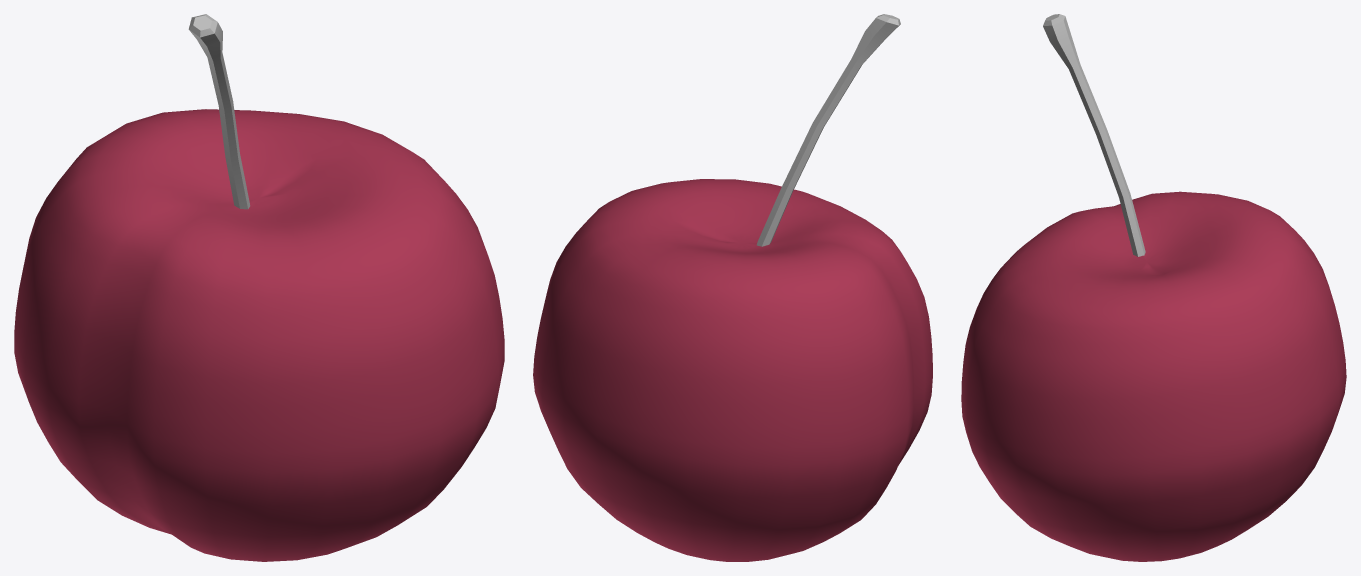
The model's file is Cherry.fbx.
The picture shows the model from 3 angles, left to right: view 1: azimuth 30°, elevation 25°; view 2: azimuth 150°, elevation 25°; view 3: azimuth 270°, elevation 25°; orthographic projection. The views are drawn at different scales.
Visible parts, largest first — view 1: node_id112, node_id112.001; view 2: node_id112, node_id112.001; view 3: node_id112, node_id112.001.
Boxes of the visible parts, bbox=[...] form: node_id112: bbox=[14, 109, 504, 561]; node_id112.001: bbox=[188, 14, 250, 209]; node_id112: bbox=[533, 179, 932, 561]; node_id112.001: bbox=[756, 14, 900, 246]; node_id112: bbox=[961, 191, 1346, 561]; node_id112.001: bbox=[1043, 14, 1145, 256].
Bounding box in the file's own units: 3.54 × 4.86 × 3.53.
